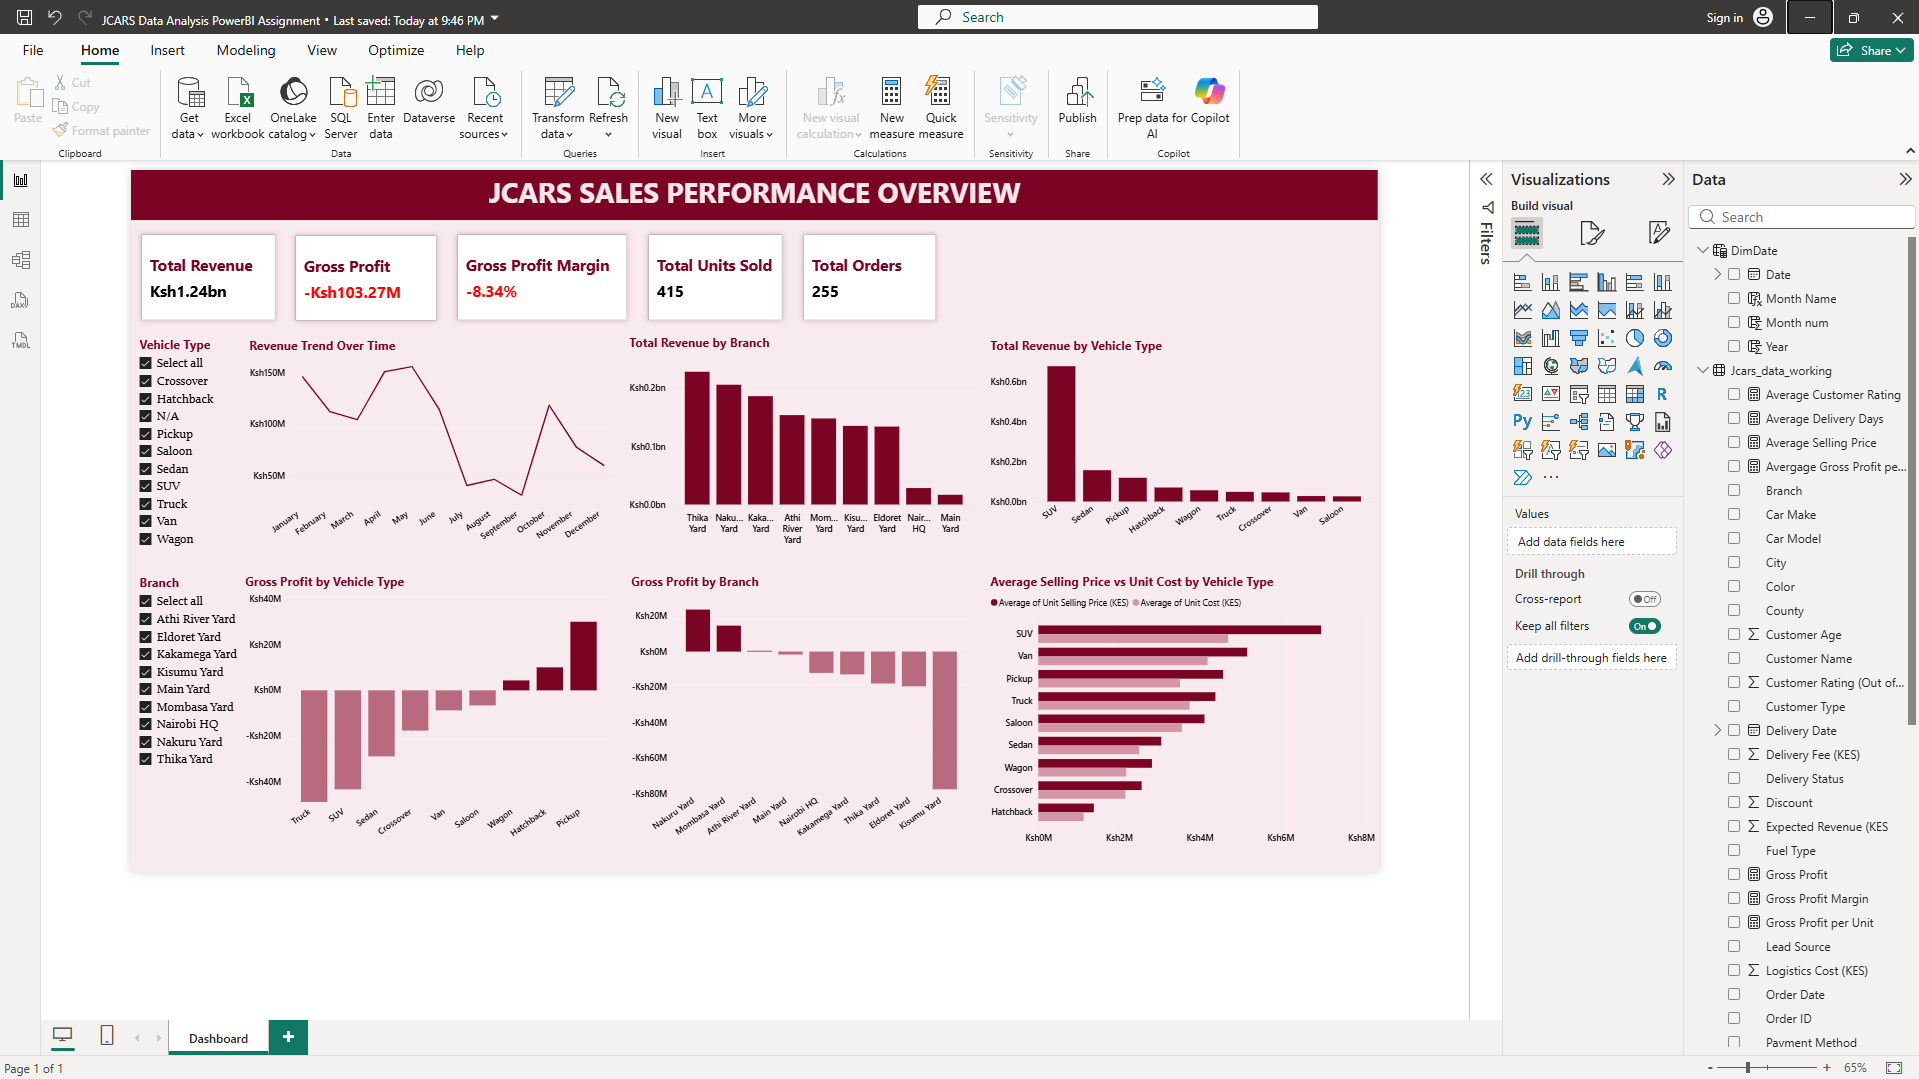

What the dashboard file says about the page in this screenshot:
{"tool":"powerbi","page":{"name":"Dashboard","canvas":[1920,1080],"ordinal":0},"visuals":[{"type":"cardVisual","fields":{"Data":["Jcars_data_working.Total Revenue"]},"box":[-0.8,83.1,238.5,164.6],"z":0},{"type":"cardVisual","fields":{"Data":["Jcars_data_working.Total Units Sold"]},"box":[780,83.1,238.5,164.6],"z":1000},{"type":"cardVisual","fields":{"Data":["Jcars_data_working.Gross Profit"]},"box":[236.9,84.6,249.2,163.1],"z":2000},{"type":"cardVisual","fields":{"Data":["Jcars_data_working.Gross Profit Margin"]},"box":[486.2,83.1,293.8,164.6],"z":3000},{"type":"cardVisual","fields":{"Data":["Jcars_data_working.Total Orders"]},"box":[1018.5,83.1,236.9,164.6],"z":4000},{"type":"clusteredColumnChart","title":"Total Revenue by Branch","fields":{"Category":["Jcars_data_working.Branch"],"Y":["Sum(Jcars_data_working.Revenue Recorded (KES))"]},"box":[761.5,252.3,543.1,332.3],"z":5000},{"type":"clusteredColumnChart","title":"Total Revenue by Vehicle Type","fields":{"Category":["Jcars_data_working.Vehicle Type"],"Y":["Sum(Jcars_data_working.Revenue Recorded (KES))"]},"box":[1316.9,256.9,603.1,323.1],"z":6000},{"type":"lineChart","title":"Revenue Trend Over Time","fields":{"Category":["DimDate.Month Name"],"Y":["Jcars_data_working.Total Revenue"]},"box":[176.9,256.9,572.3,332.3],"z":7000},{"type":"clusteredColumnChart","title":"Gross Profit by Branch","fields":{"Category":["Jcars_data_working.Branch"],"Y":["Jcars_data_working.Gross Profit"]},"box":[764.6,620,530.8,426.2],"z":8000},{"type":"columnChart","title":"Gross Profit by Vehicle Type","fields":{"Category":["Jcars_data_working.Vehicle Type"],"Y":["Jcars_data_working.Gross Profit"]},"box":[170.8,620,572.3,426.2],"z":9000},{"type":"clusteredBarChart","title":"Average Selling Price vs Unit Cost by Vehicle Type","fields":{"Category":["Jcars_data_working.Vehicle Type"],"Y":["Avg(Jcars_data_working.Unit Selling Price (KES))","Avg(Jcars_data_working.Unit Cost (KES))"]},"box":[1316.9,620,601.5,426.2],"z":10000},{"type":"slicer","fields":{"Values":["Jcars_data_working.Branch"]},"box":[0,616.9,176.9,413.8],"z":11000},{"type":"slicer","fields":{"Values":["Jcars_data_working.Vehicle Type"]},"box":[0,250.8,176.9,335.4],"z":12000},{"type":"textbox","box":[0,0,1918.5,76.9],"z":14000}]}

Visuals, with their boxes on the page's 1920x1080 design canvas (x1, y1, x2, y2). These are canvas units, not pixel positions in the 1919x1079 screenshot, which may show the page scaled, cropped or inside an application window:
cardVisual - Jcars_data_working.Total Revenue: {"x1": -1, "y1": 83, "x2": 238, "y2": 248}
cardVisual - Jcars_data_working.Total Units Sold: {"x1": 780, "y1": 83, "x2": 1018, "y2": 248}
cardVisual - Jcars_data_working.Gross Profit: {"x1": 237, "y1": 85, "x2": 486, "y2": 248}
cardVisual - Jcars_data_working.Gross Profit Margin: {"x1": 486, "y1": 83, "x2": 780, "y2": 248}
cardVisual - Jcars_data_working.Total Orders: {"x1": 1018, "y1": 83, "x2": 1255, "y2": 248}
"Total Revenue by Branch" clusteredColumnChart: {"x1": 762, "y1": 252, "x2": 1305, "y2": 585}
"Total Revenue by Vehicle Type" clusteredColumnChart: {"x1": 1317, "y1": 257, "x2": 1920, "y2": 580}
"Revenue Trend Over Time" lineChart: {"x1": 177, "y1": 257, "x2": 749, "y2": 589}
"Gross Profit by Branch" clusteredColumnChart: {"x1": 765, "y1": 620, "x2": 1295, "y2": 1046}
"Gross Profit by Vehicle Type" columnChart: {"x1": 171, "y1": 620, "x2": 743, "y2": 1046}
"Average Selling Price vs Unit Cost by Vehicle Type" clusteredBarChart: {"x1": 1317, "y1": 620, "x2": 1918, "y2": 1046}
slicer - Jcars_data_working.Branch: {"x1": 0, "y1": 617, "x2": 177, "y2": 1031}
slicer - Jcars_data_working.Vehicle Type: {"x1": 0, "y1": 251, "x2": 177, "y2": 586}
textbox: {"x1": 0, "y1": 0, "x2": 1918, "y2": 77}
